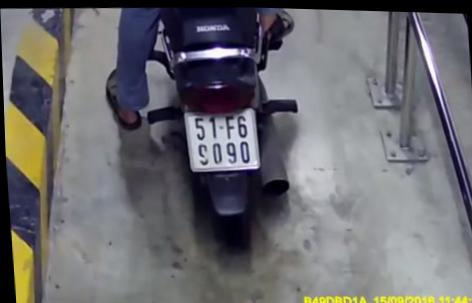LP: (181, 105, 263, 174)
